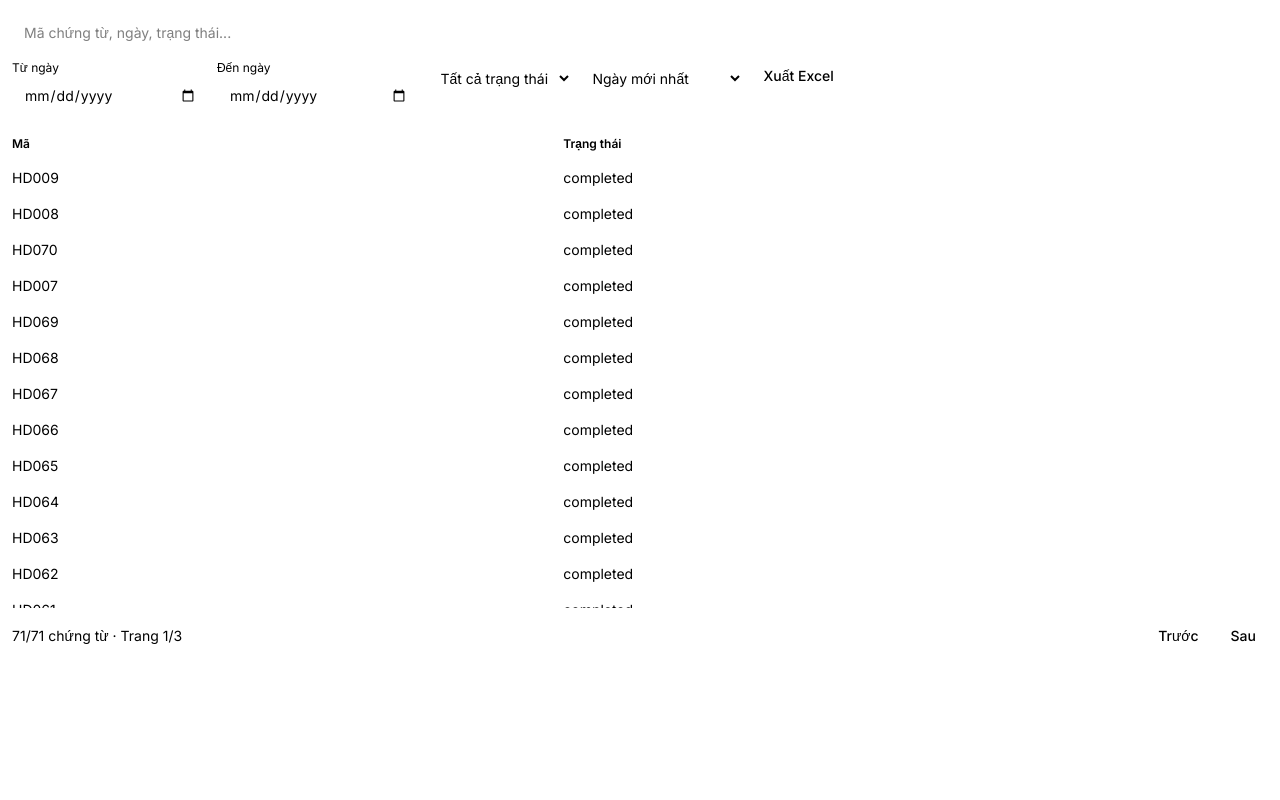
accessible complete document history › makes every page accessible and searches older cancelled records
Click the button "Sau".
click(1243, 636)  # box [1219,620,1268,652]
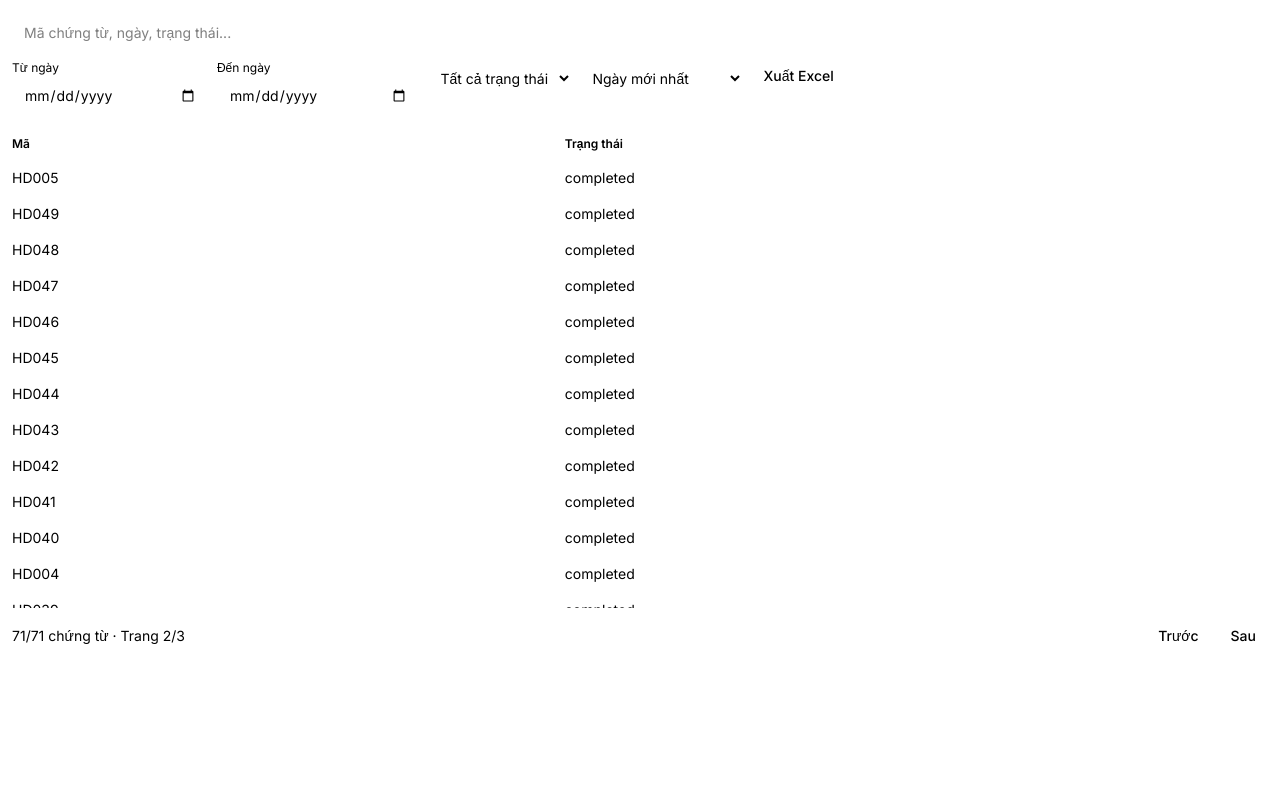
expect the text "71/71 chứng từ · Trang 2/3" is shown: met, box [12,626,185,646]
Type "HD000" into the field named "Tìm trong toàn bộ lịch sử chứng từ".
click(640, 32); type("HD000")  # box [12,12,1268,52]
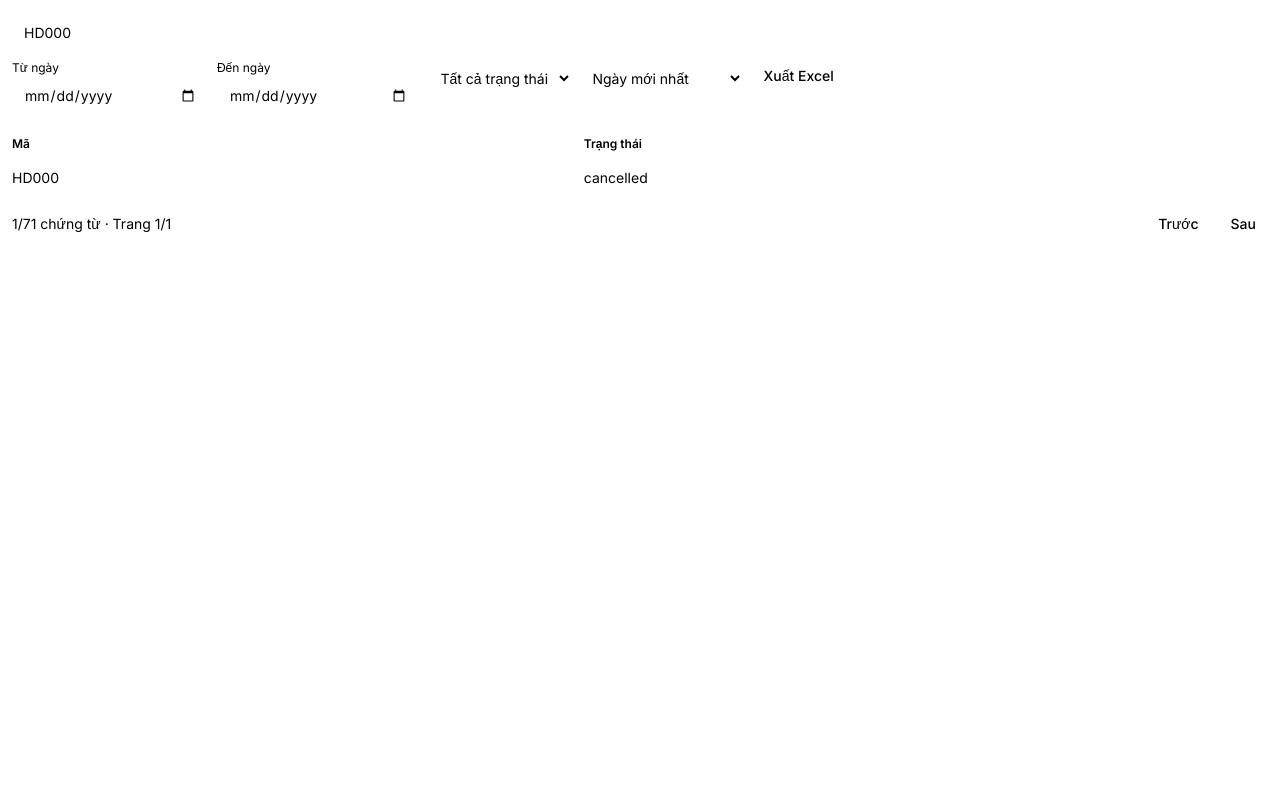
expect the text "1/71 chứng từ · Trang 1/1" is shown: met, box [12,214,171,234]
expect the text "cancelled" is shown: met, box [572,160,1279,196]
